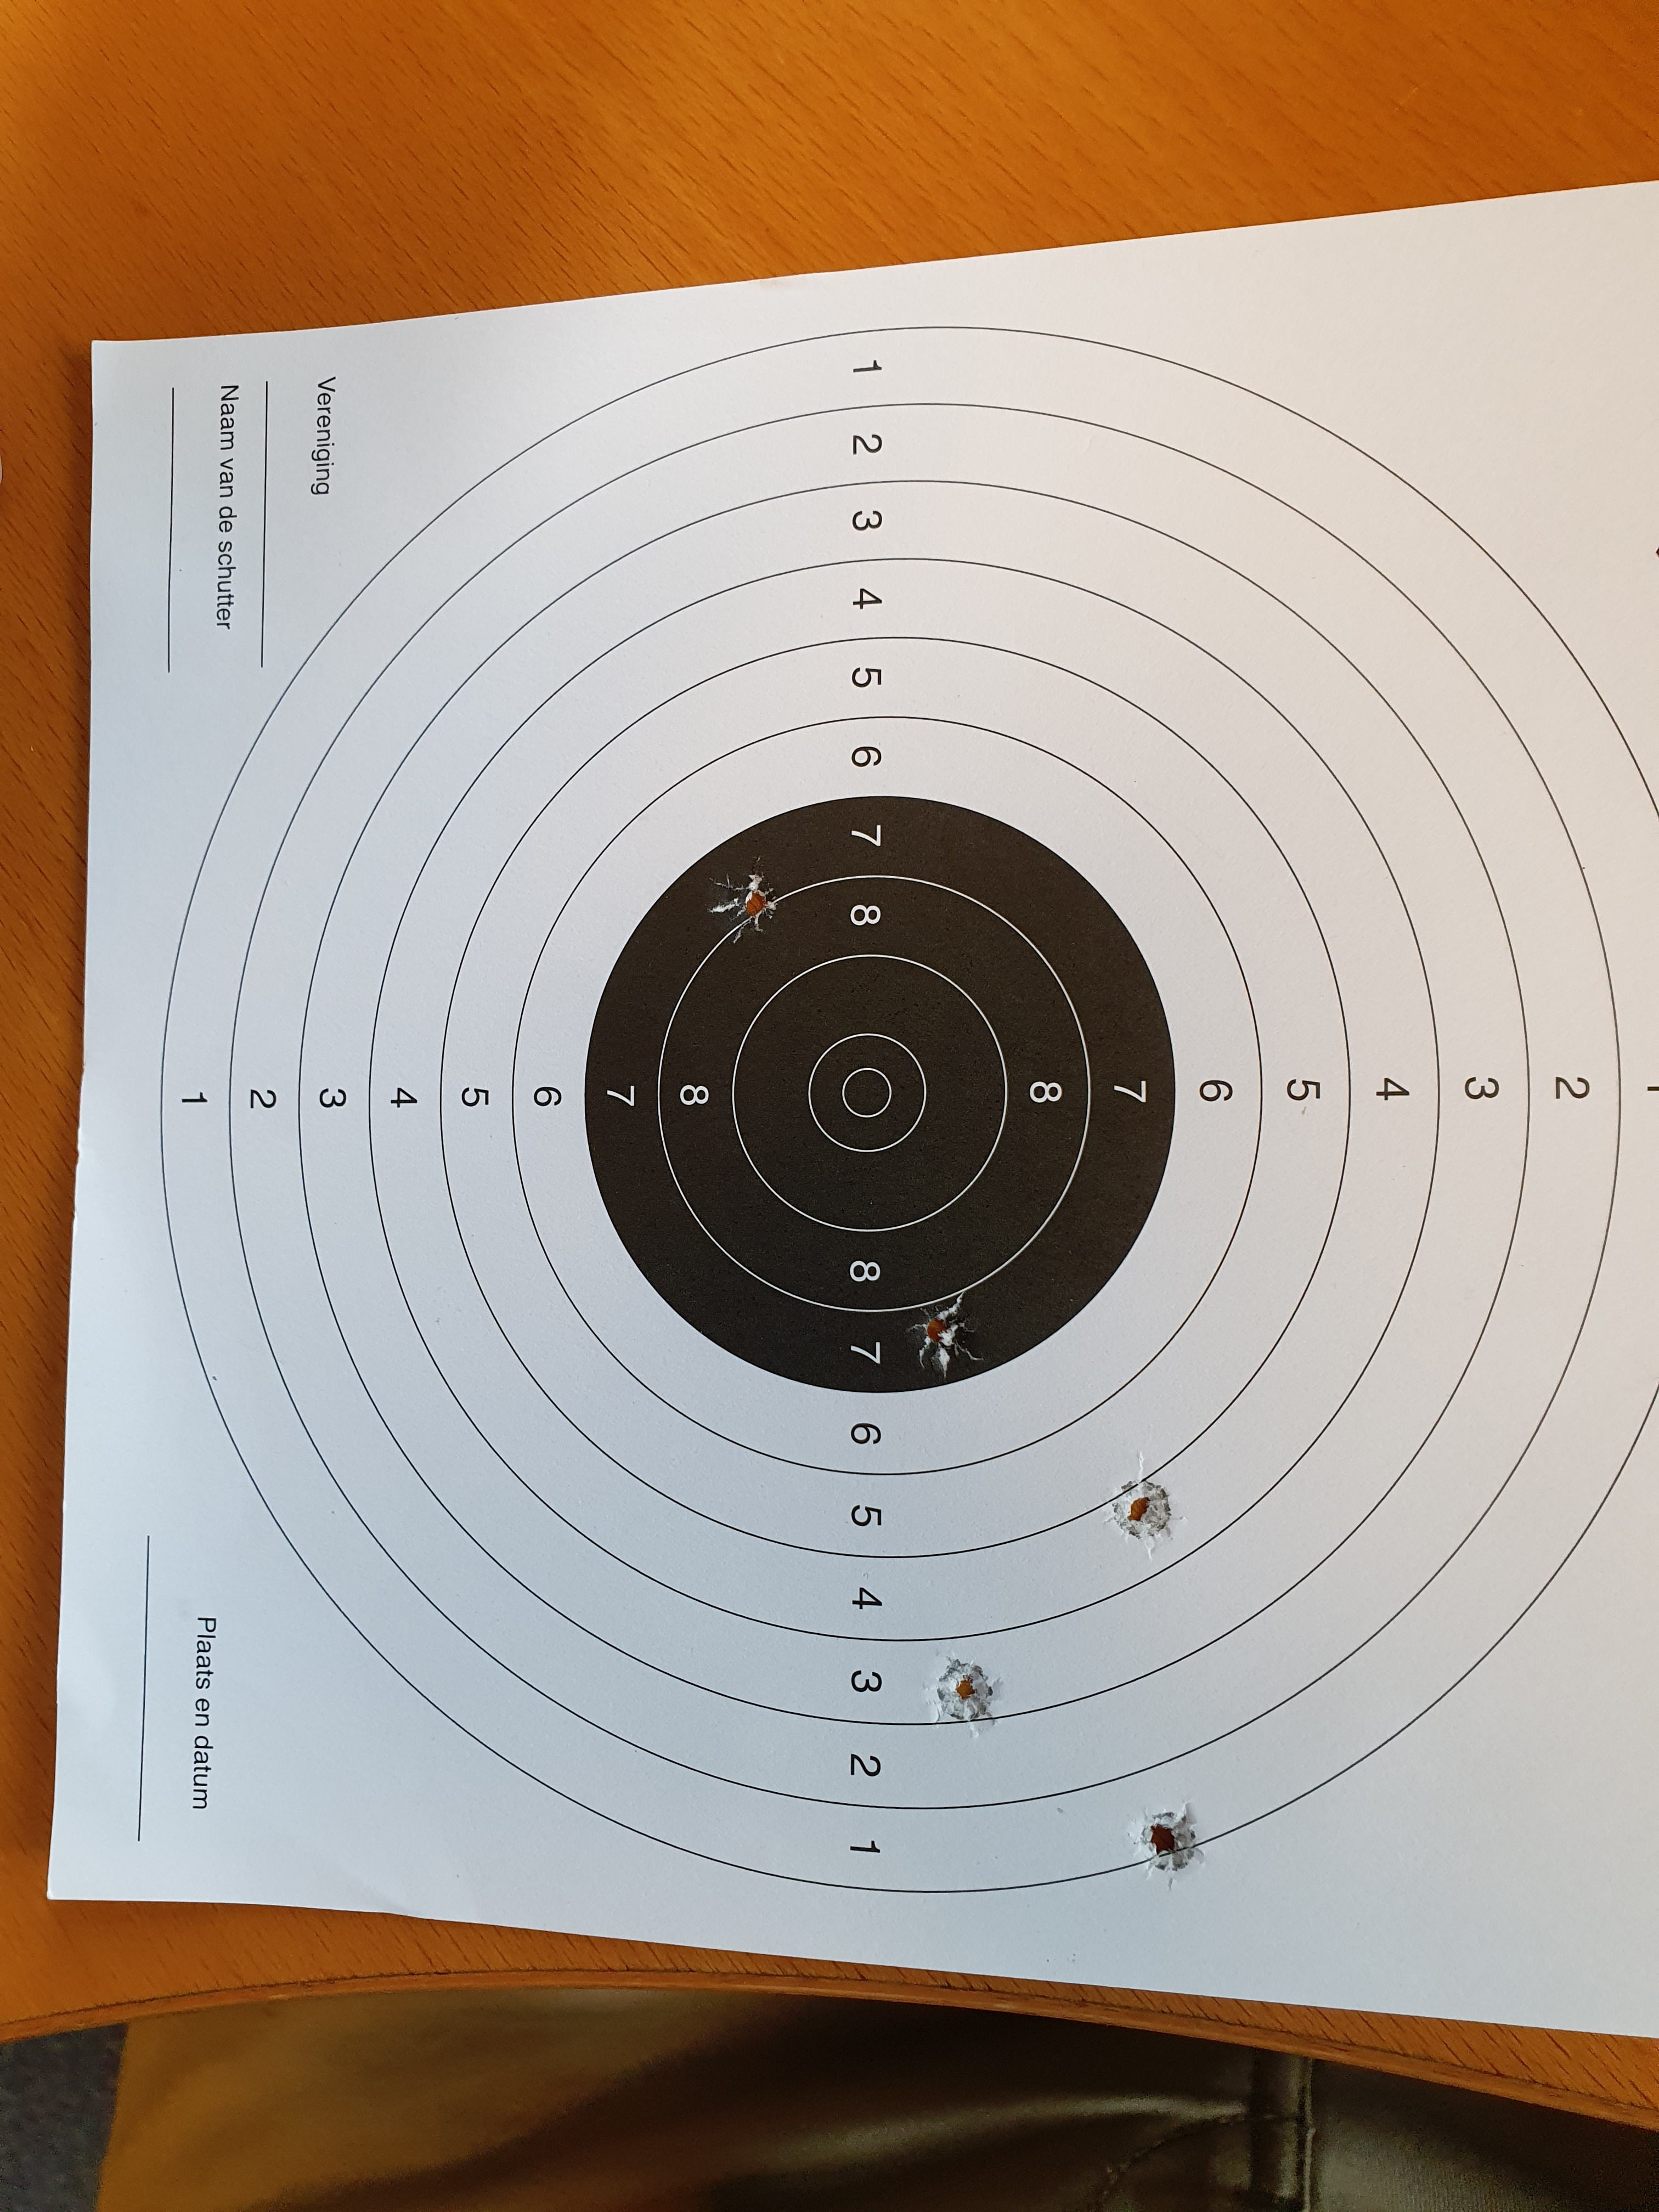center: (584, 794, 1176, 1395)
out: (159, 324, 1659, 1895)
shot: (1105, 1454, 1187, 1555), (904, 1289, 983, 1379), (924, 1651, 1002, 1738), (1133, 1796, 1206, 1885), (708, 866, 781, 942)
target: (807, 1031, 927, 1151)
